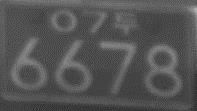0: (50, 8, 79, 33)
6: (53, 38, 93, 95), (9, 36, 48, 91)
7: (99, 39, 138, 95), (80, 8, 107, 33)
8: (143, 43, 182, 99)
두: (112, 9, 140, 34)
